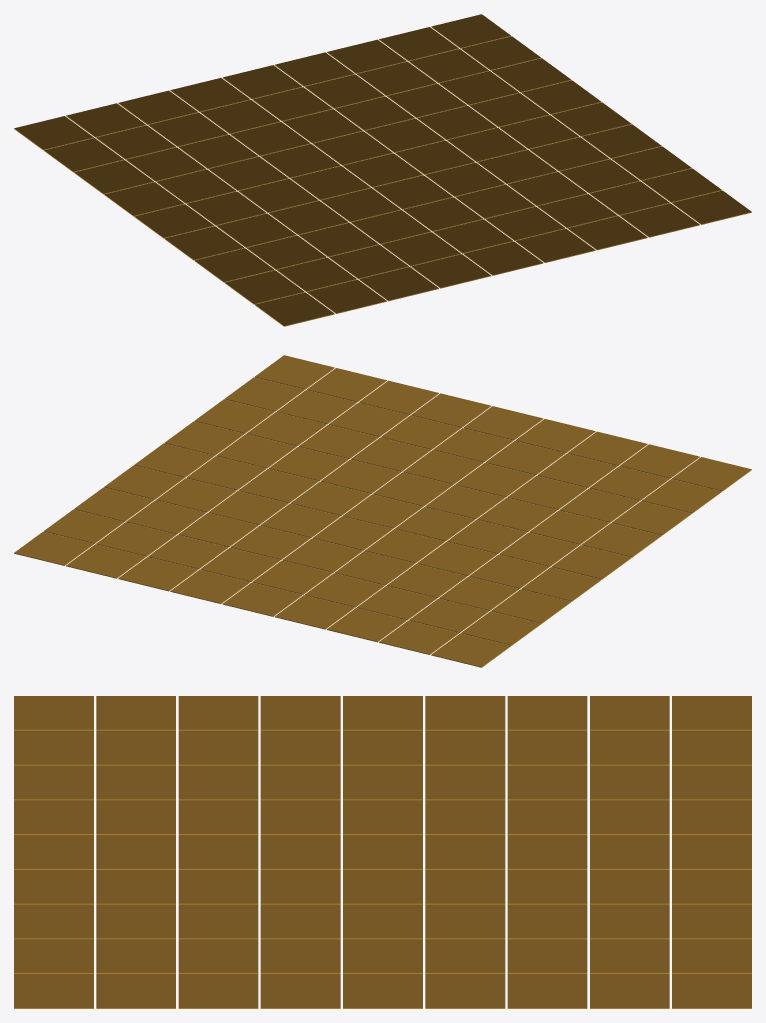
Rendered from Floor 3.fbx.
3 views of the same model, one above another, from view 1: azimuth 30°, elevation 25°; view 2: azimuth 150°, elevation 25°; view 3: azimuth 270°, elevation 25° (orthographic). The views are drawn at different scales.
Parts seen in each view (by area): view 1: Floor 3; view 2: Floor 3; view 3: Floor 3.
Boxes of the visible parts, x1,y1,x2,y2 form: Floor 3: [14, 14, 751, 326]; Floor 3: [14, 355, 751, 667]; Floor 3: [14, 696, 751, 1008].
Bounding box in the file's own units: 5.25 × 0.00836 × 5.25.
